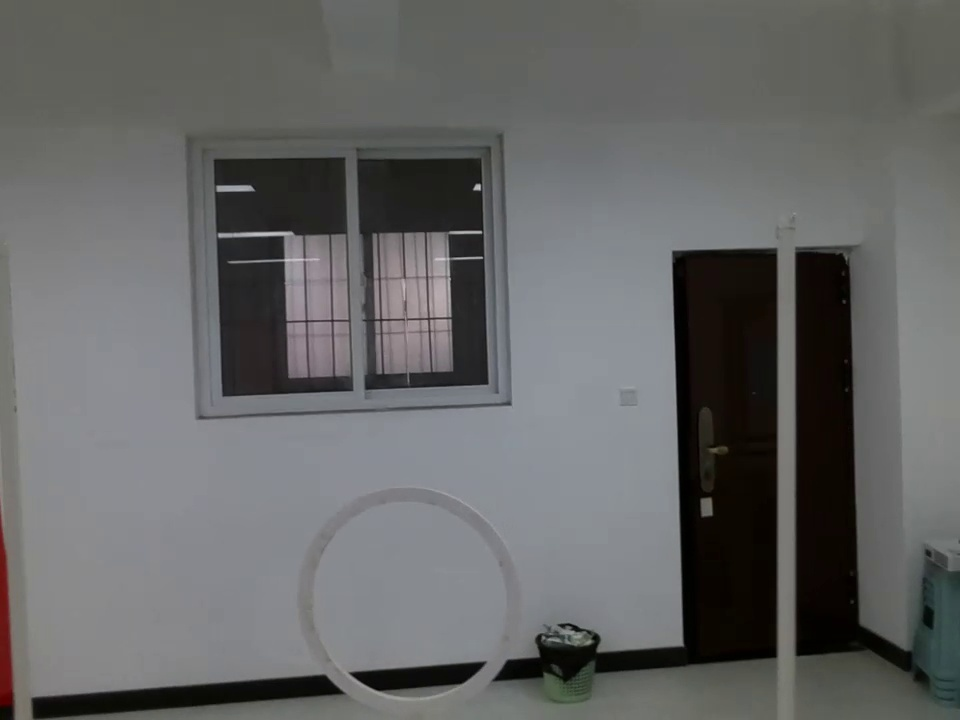gan: (770, 211, 801, 720)
quan: (288, 483, 524, 717)
